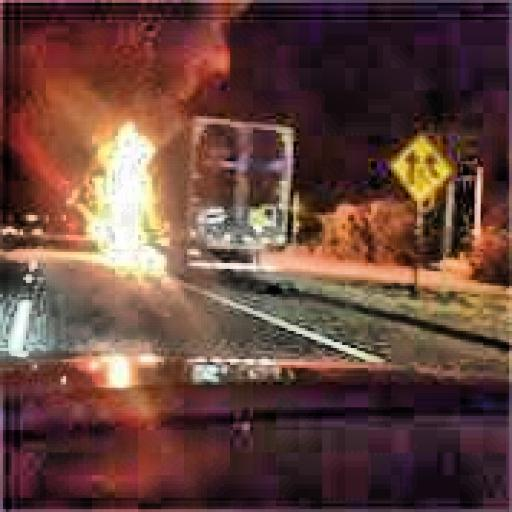fire: (72, 116, 213, 269)
